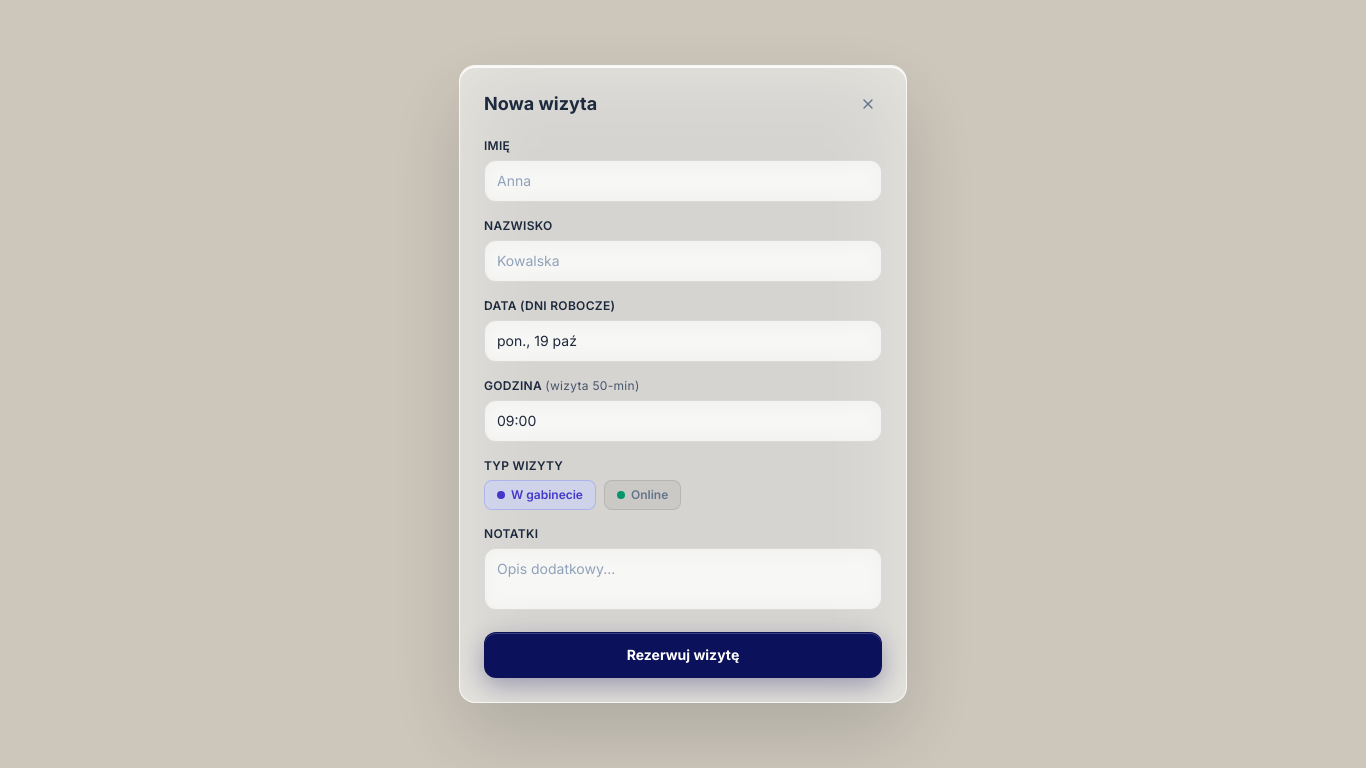
Test: AddTaskModal › name validation › shows inline errors when both name fields are empty
What coordinates should you click on to do the following:
click the button "Rezerwuj wizytę"
I would click on:
 (683, 655)
Its box is [484, 632, 882, 678].
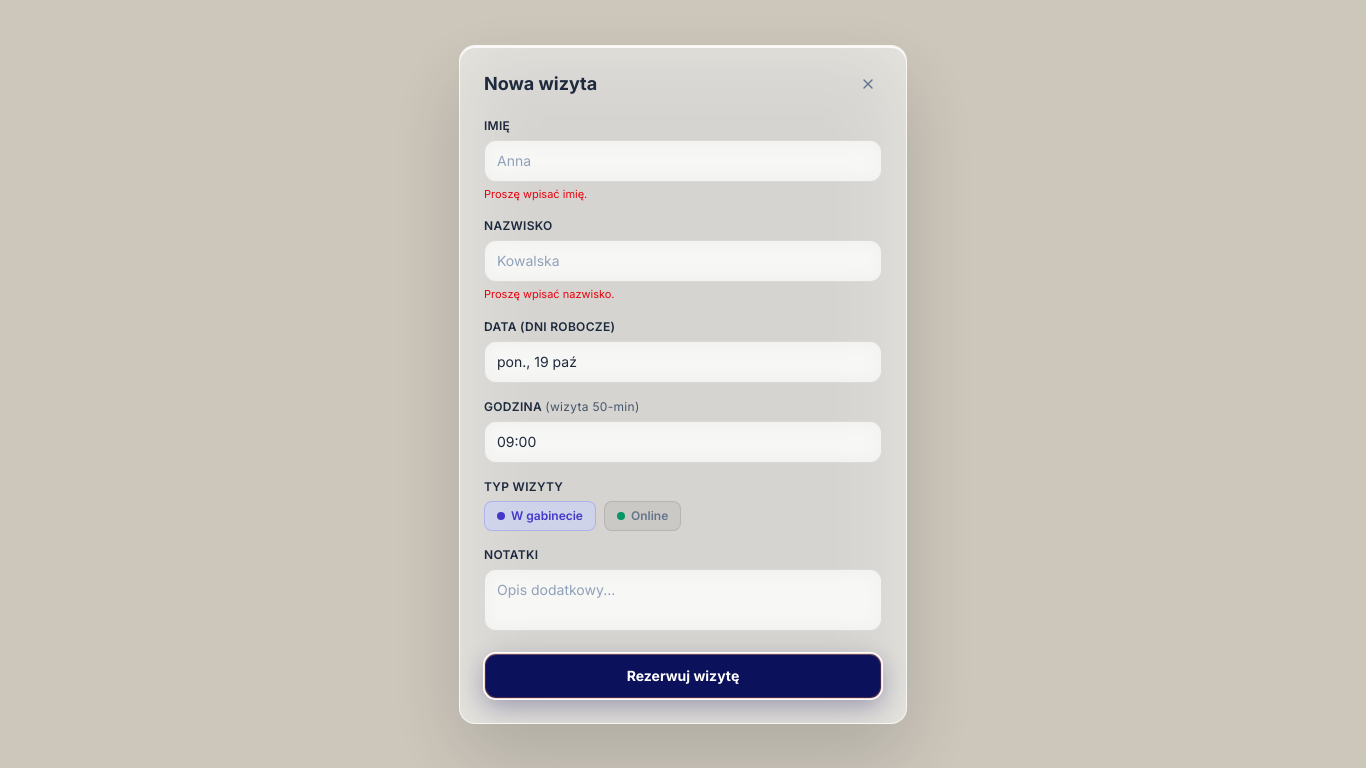
Now the text "Proszę wpisać imię." is shown, box [484, 186, 587, 200]
Now the text "Proszę wpisać nazwisko." is shown, box [484, 287, 614, 301]
